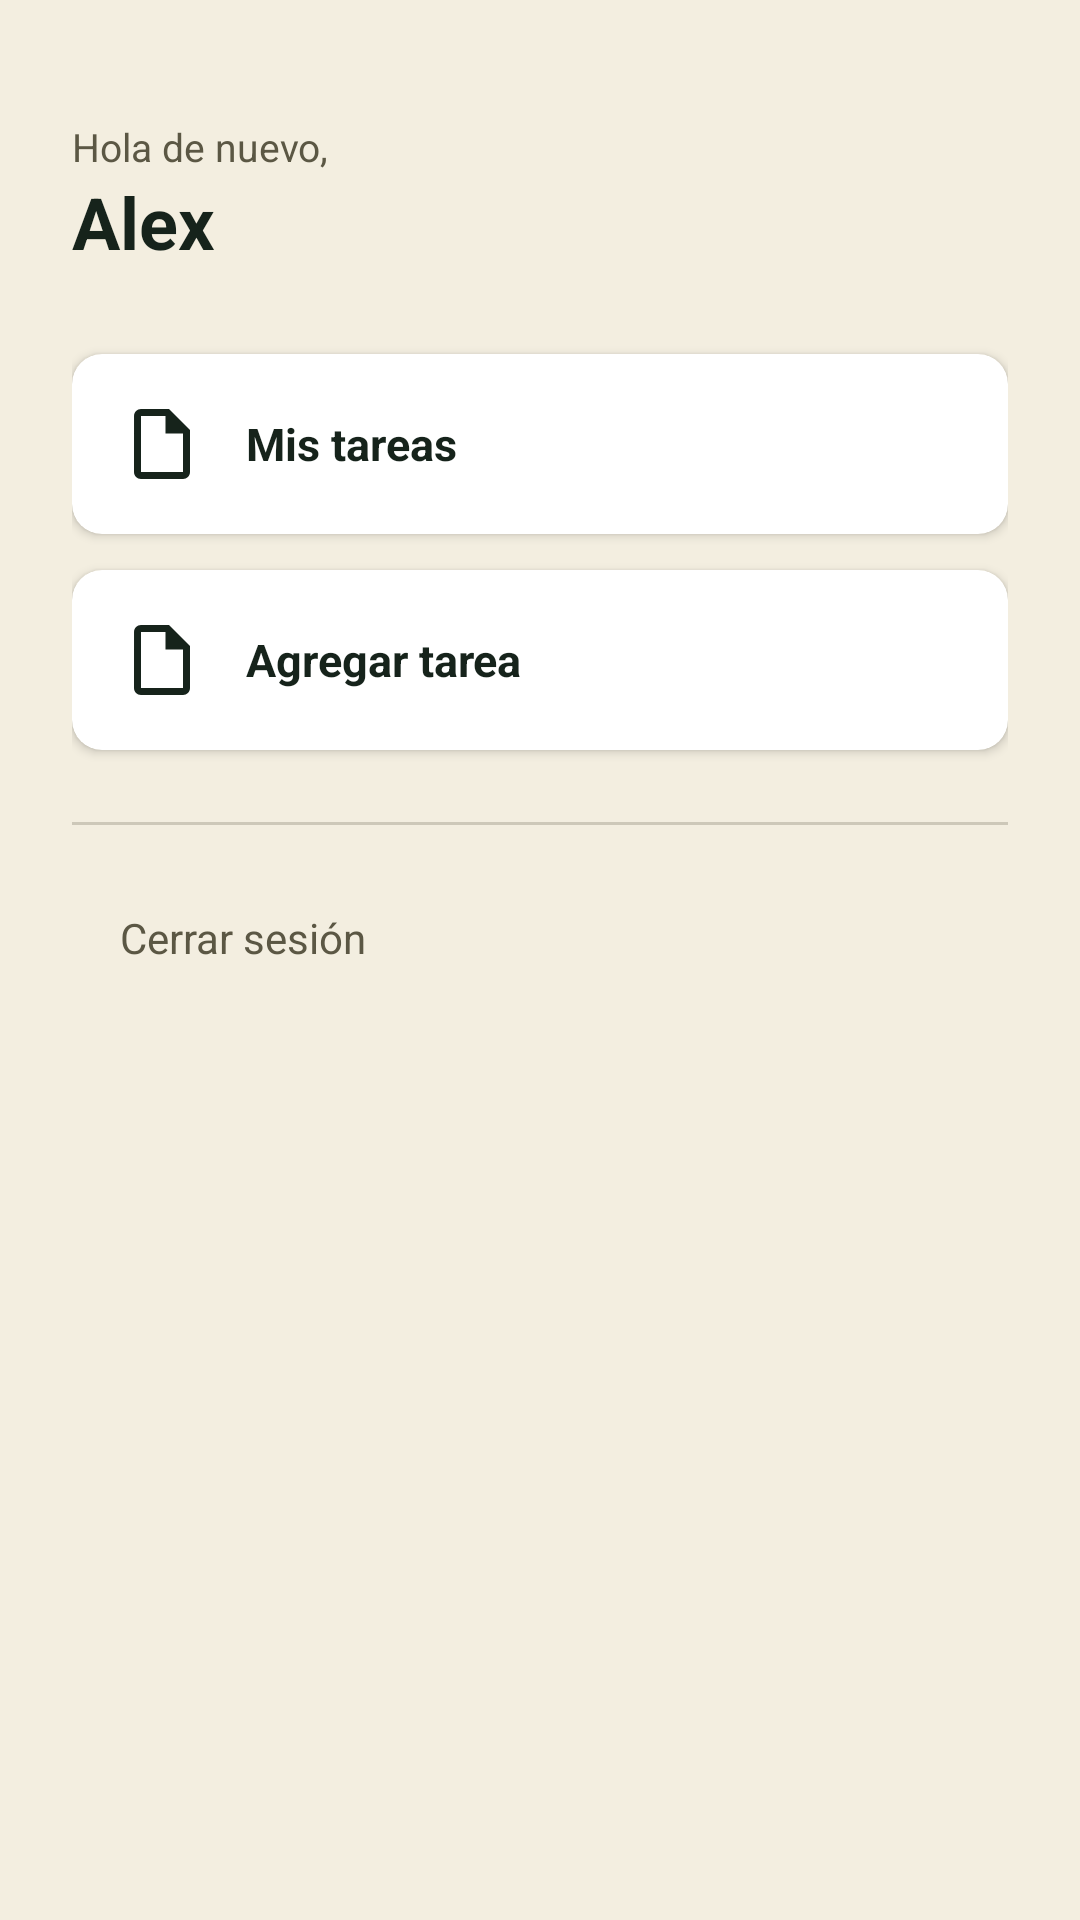

Screen size 1080 × 1920. Icon name, then its center in pixels as (x=x, y=y):
task: (x=162, y=444), (x=162, y=660)
